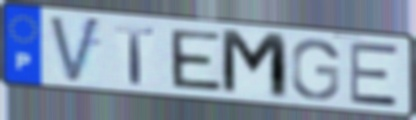E: (167, 28, 225, 94), (347, 41, 402, 109)
G: (288, 37, 341, 102)
M: (218, 26, 292, 103)
T: (114, 23, 158, 86)
V: (46, 14, 104, 87)
